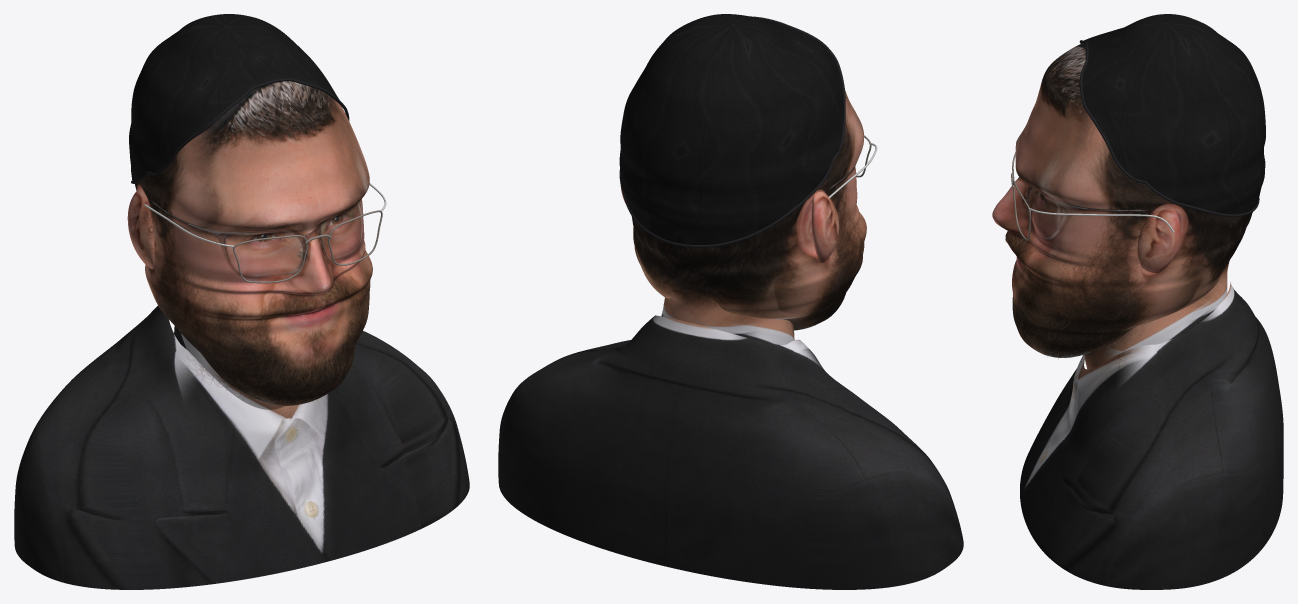
The model's file is bust.glb.
The picture shows the model from 3 angles, left to right: view 1: azimuth 30°, elevation 25°; view 2: azimuth 150°, elevation 25°; view 3: azimuth 270°, elevation 25°; orthographic projection. The views are drawn at different scales.
Parts seen in each view (by area): view 1: Jacket and white shirt, Head · hair, beard and kippah, Kippah · fitted velvet shell, Right ear, Kippah · continuous bound hem, Neck; view 2: Jacket and white shirt, Kippah · fitted velvet shell, Head · hair, beard and kippah, Neck, Right ear, Kippah · continuous bound hem; view 3: Jacket and white shirt, Head · hair, beard and kippah, Kippah · fitted velvet shell, Neck, Left ear, Kippah · continuous bound hem.
Boxes of the visible parts, left/top/right/bottom form: Jacket and white shirt: left=14, top=306, right=469, bottom=589; Head · hair, beard and kippah: left=135, top=81, right=372, bottom=405; Kippah · fitted velvet shell: left=129, top=14, right=339, bottom=180; Right ear: left=127, top=188, right=154, bottom=269; Kippah · continuous bound hem: left=131, top=78, right=349, bottom=183; Neck: left=174, top=326, right=284, bottom=409; Jacket and white shirt: left=498, top=315, right=963, bottom=589; Kippah · fitted velvet shell: left=619, top=14, right=843, bottom=244; Head · hair, beard and kippah: left=631, top=90, right=866, bottom=330; Neck: left=661, top=289, right=794, bottom=344; Right ear: left=811, top=191, right=839, bottom=262; Kippah · continuous bound hem: left=619, top=16, right=845, bottom=247; Jacket and white shirt: left=1020, top=282, right=1283, bottom=589; Head · hair, beard and kippah: left=992, top=43, right=1252, bottom=357; Kippah · fitted velvet shell: left=1082, top=14, right=1265, bottom=214; Neck: left=1084, top=262, right=1229, bottom=369; Left ear: left=1137, top=209, right=1180, bottom=272; Kippah · continuous bound hem: left=1079, top=40, right=1259, bottom=217.
Bounding box in the file's own units: 0.3395 × 0.372 × 0.212.
Materials: 15 (6 with a texture image).
